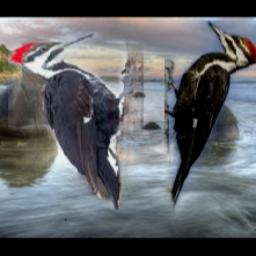Woodpecker: (9, 32, 145, 209), (166, 21, 256, 214)
